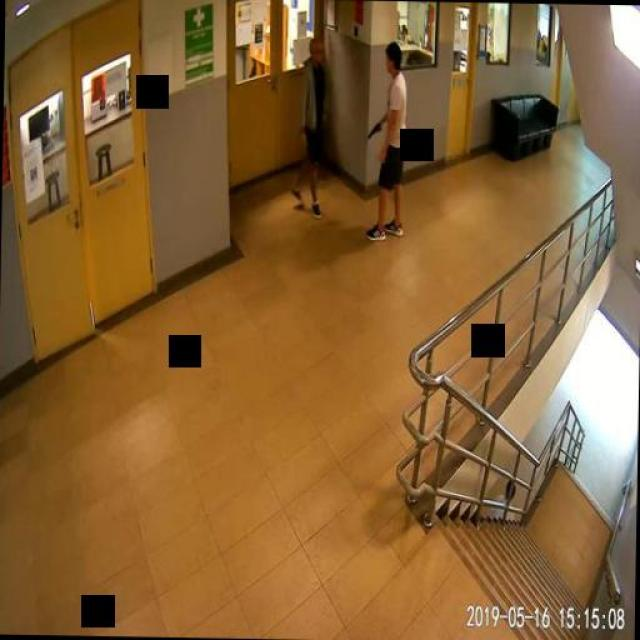gun: (366, 119, 382, 139)
